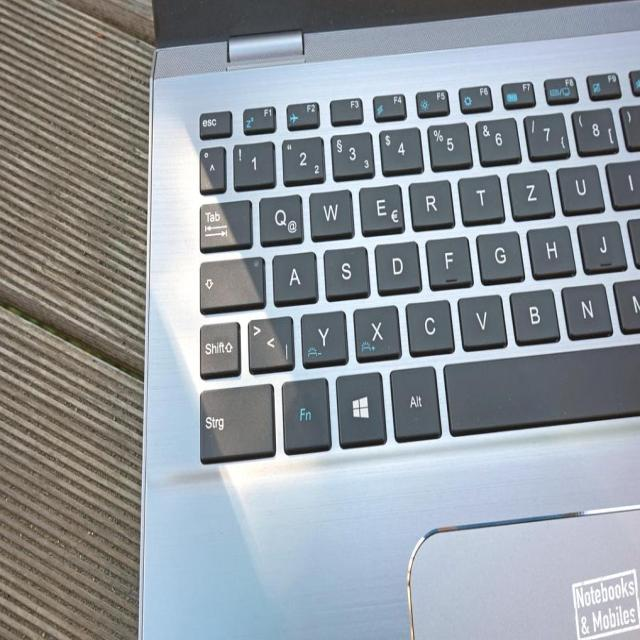1: (231, 137, 274, 186)
2: (279, 133, 323, 181)
3: (327, 128, 373, 177)
4: (376, 123, 421, 170)
5: (425, 119, 471, 166)
6: (473, 114, 519, 162)
7: (523, 109, 569, 156)
8: (570, 104, 617, 152)
a: (270, 247, 316, 301)
alt-left: (387, 362, 440, 438)
b: (508, 284, 560, 340)
c: (404, 296, 453, 352)
caret: (197, 143, 223, 190)
d: (372, 238, 420, 292)
e: (356, 181, 403, 233)
f: (423, 232, 472, 285)
g: (474, 227, 524, 281)
h: (525, 222, 574, 275)
i: (605, 157, 640, 205)
j: (576, 216, 625, 270)
keyboard: (184, 31, 636, 478)
less: (245, 312, 293, 370)
m: (612, 277, 640, 330)
n: (559, 280, 612, 334)
q: (256, 190, 302, 244)
r: (407, 177, 453, 226)
s: (321, 244, 369, 297)
shift-left: (195, 316, 239, 375)
shift-lock: (195, 252, 263, 309)
space: (440, 333, 636, 432)
strg-left: (195, 380, 275, 462)
t: (457, 171, 503, 220)
tab: (195, 196, 249, 248)
u: (554, 161, 603, 212)
v: (455, 290, 506, 345)
w: (306, 185, 352, 236)
x: (351, 301, 400, 357)
y: (298, 307, 346, 362)
z: (506, 165, 554, 216)
